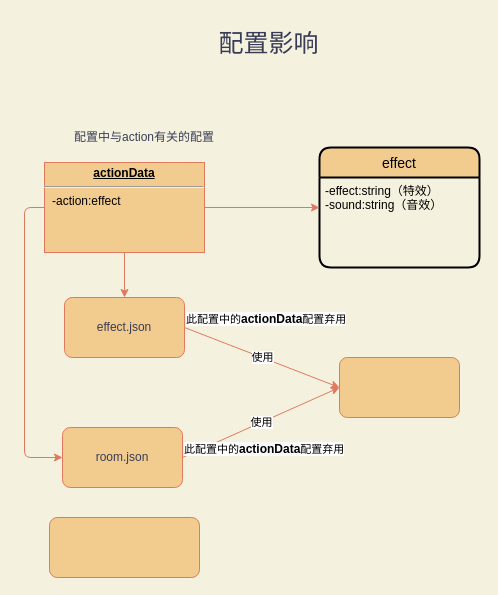
The diagram is 498 pixels wide and 595 high, and some of its shapes have lost their labels. The shapes that lost their labels are listed below. From the top down, each one's centre as x and y in pixels, then its label:
the point at 399,387: action.json
the point at 124,547: rule.json 废弃字段actionid的使用
